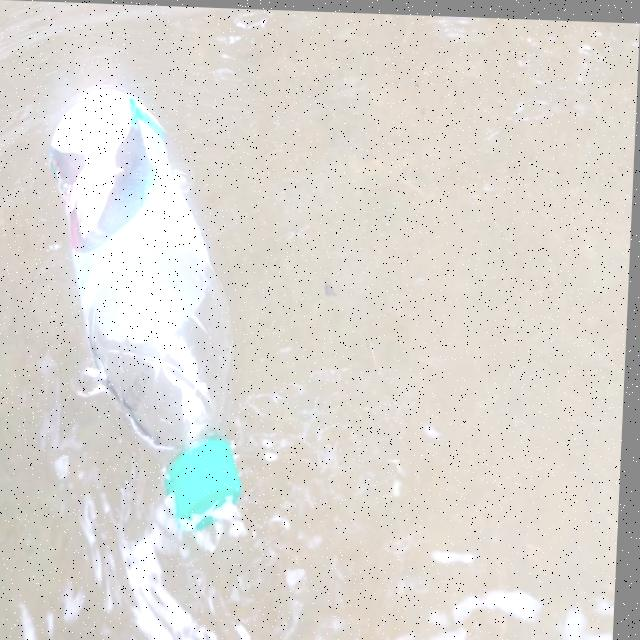waterbottle: (37, 59, 272, 553)
